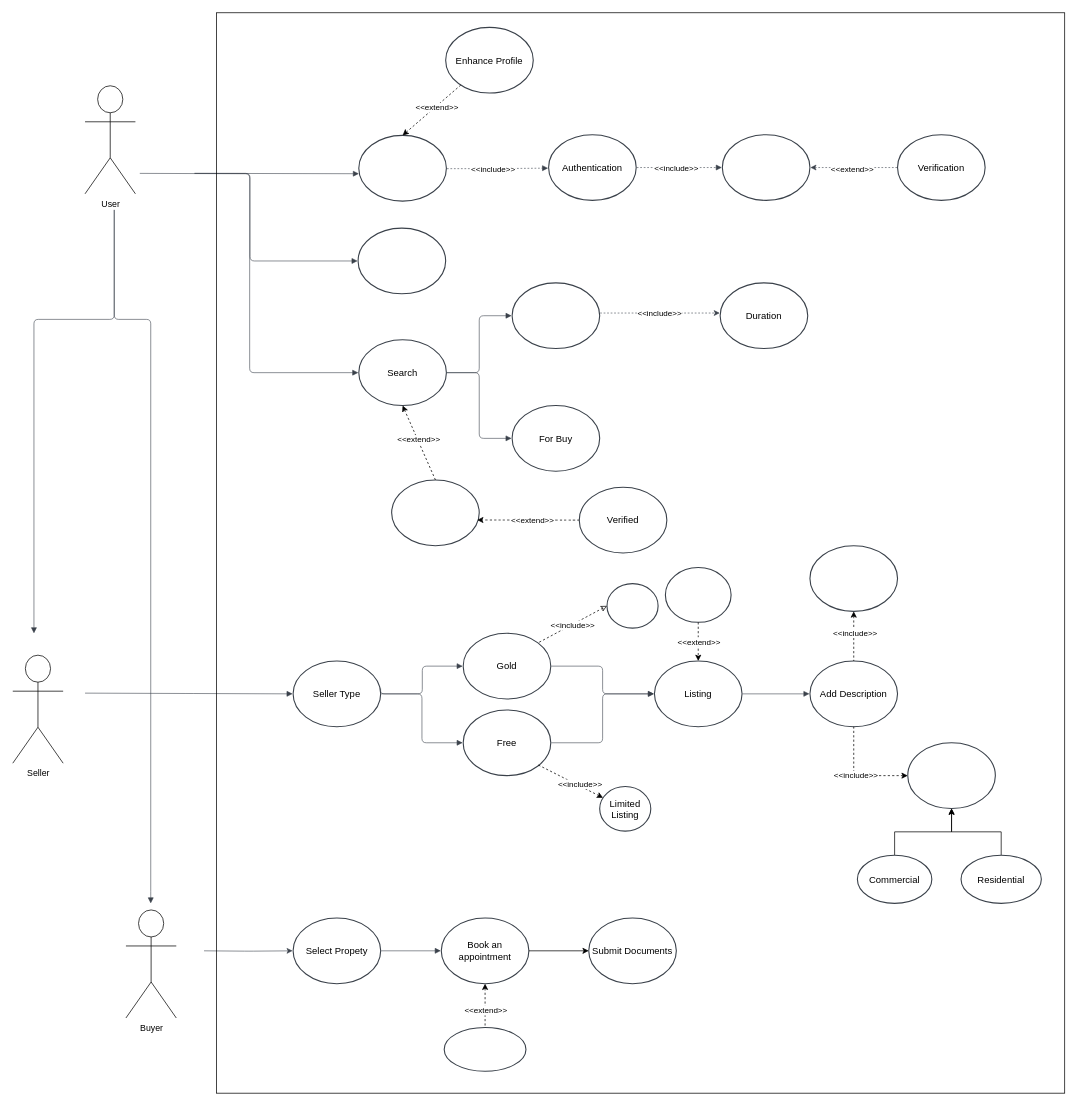
The diagram is 1077 pixels wide and 1106 high, and some of its shapes have lost their labels. The shapes that lost their labels are listed below. From the top down, each one's centre as x and y in pixels, then its label:
the point at 402,168: Sign Up
the point at 765,167: User Type
the point at 401,260: Change Language
the point at 555,315: For Rent
the point at 435,512: FIlter
the point at 698,595: Remove Listing
the point at 853,578: Add photo
the point at 632,605: Infinite Listing
the point at 951,775: Type of Property
the point at 484,1049: Rate the listing
